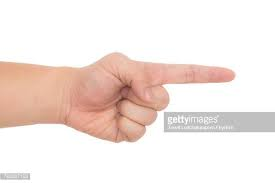hand: (41, 38, 255, 155)
